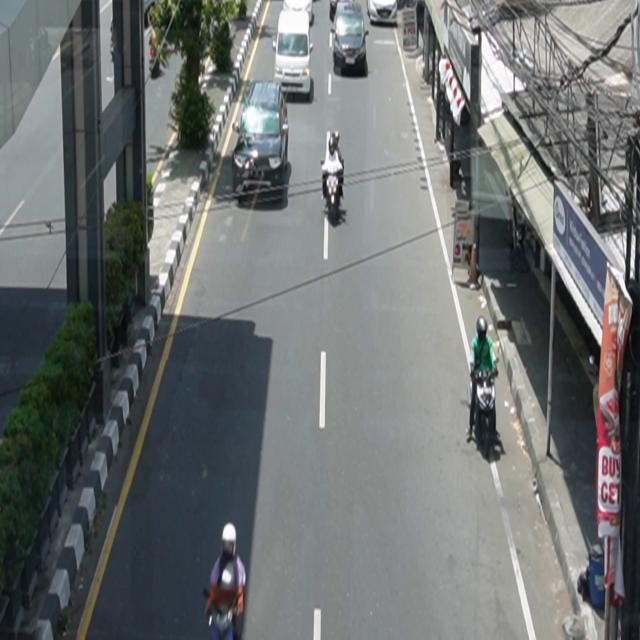car: (232, 79, 290, 201), (329, 1, 369, 73)
